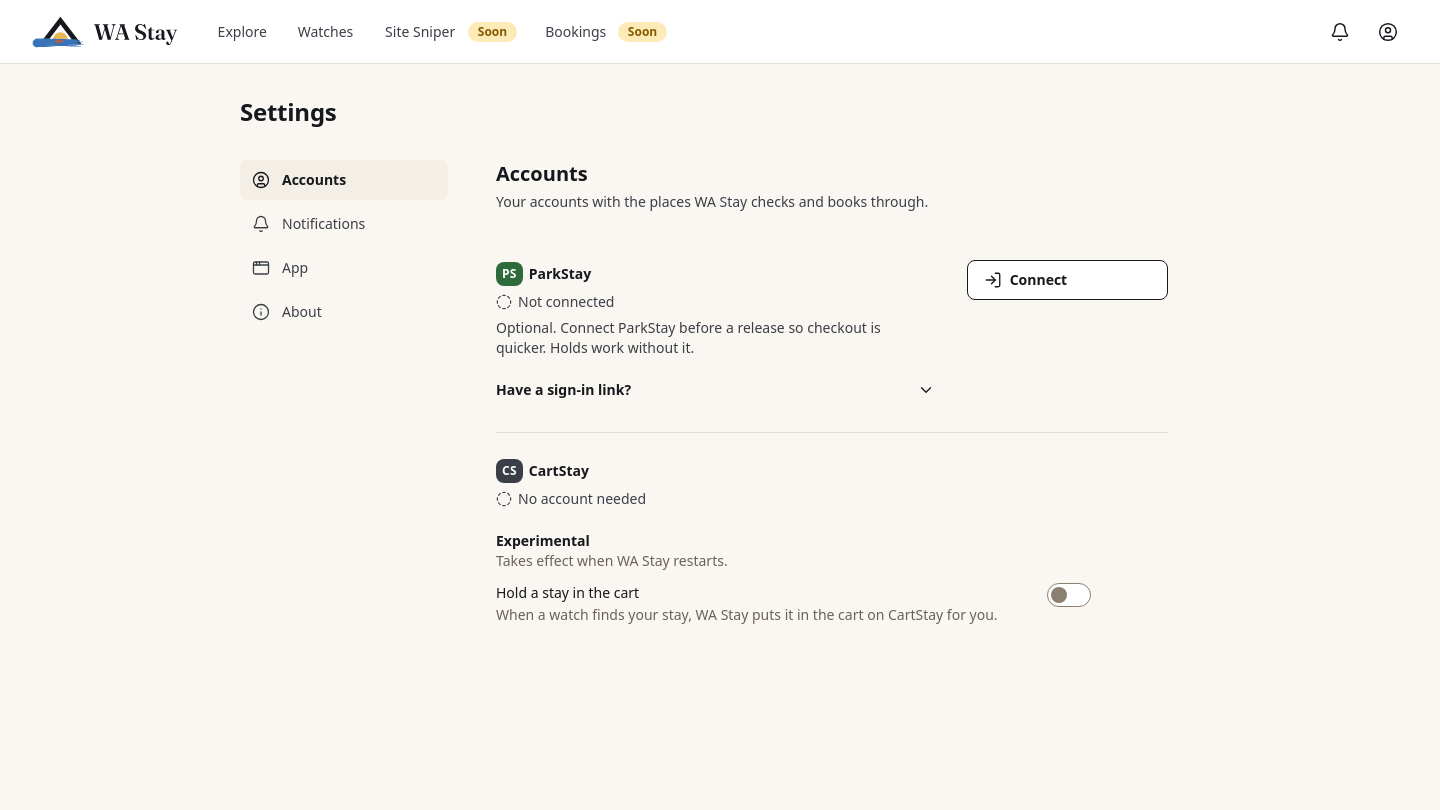
Scenario: Settings → Accounts: Experimental switches (R17) › a refused turn-on stays in the dialog with the reason
The image size is (1440, 810).
Click the switch labelled "Hold a stay in the cart".
click(1069, 595)  # box x1=1047 y1=583 x2=1091 y2=607
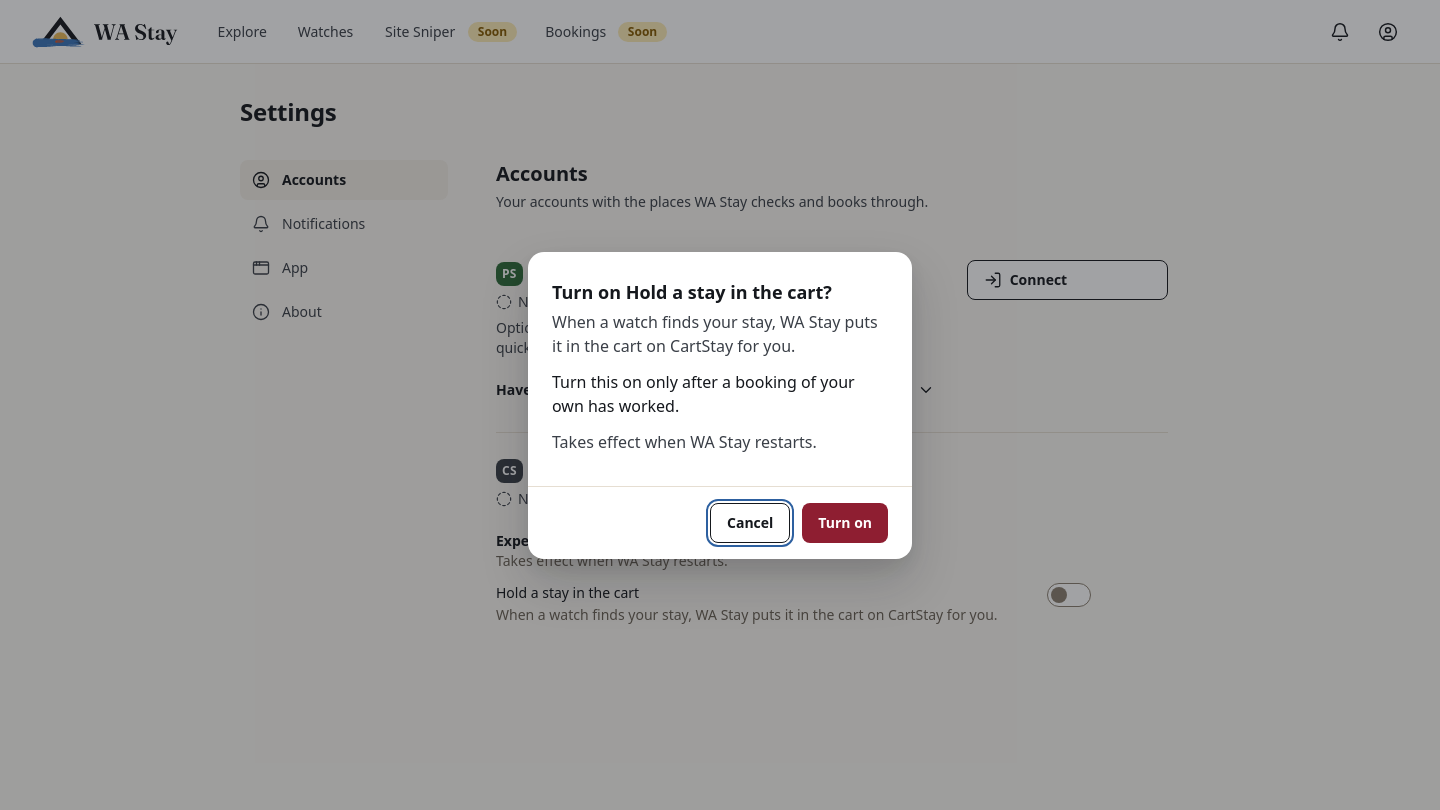
Click the button "Turn on".
click(845, 522)  # box x1=802 y1=502 x2=888 y2=542
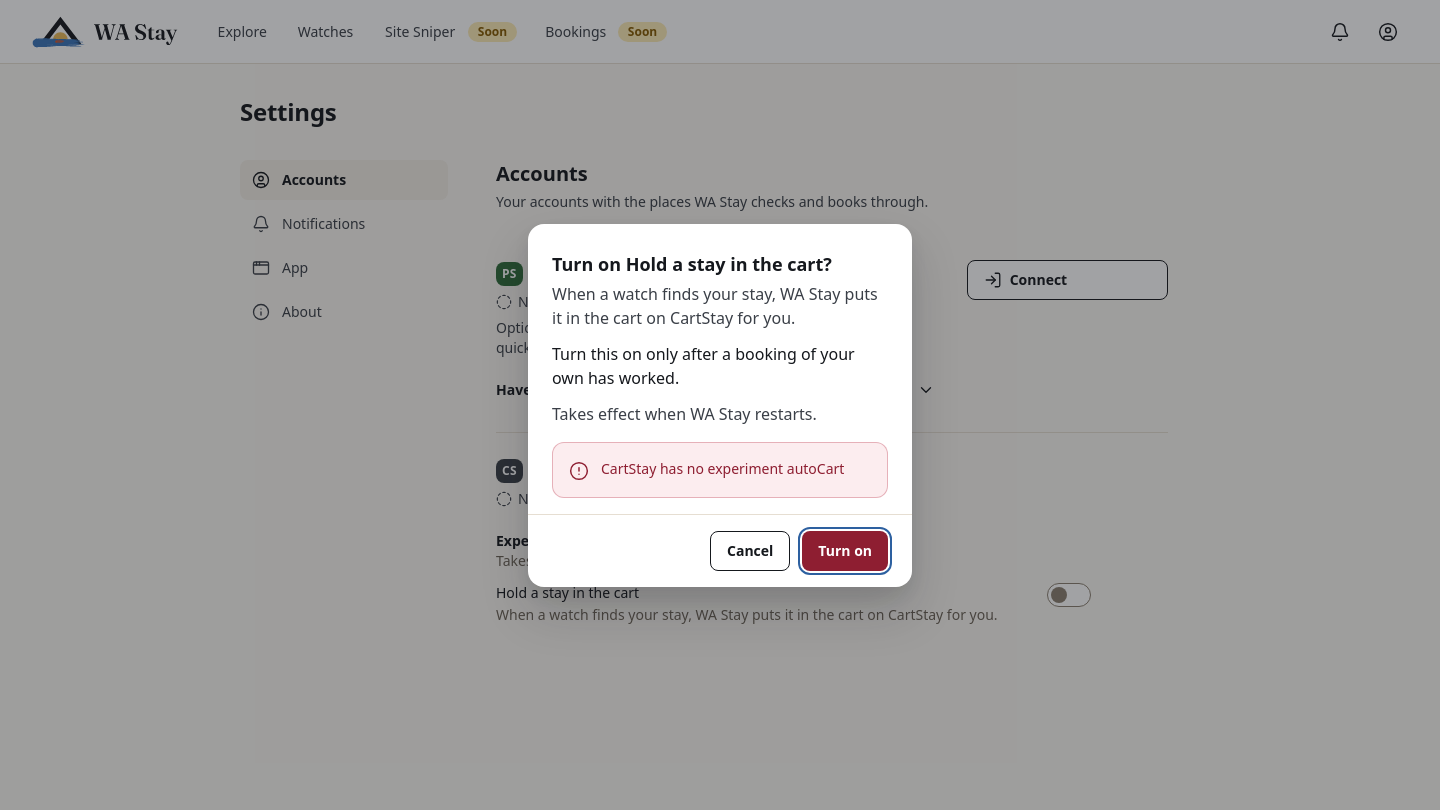
Expected: the switch labelled "Hold a stay in the cart" is not checked, x1=1047 y1=583 x2=1091 y2=607
Result: the message reads "CartStay has no experiment autoCart" at x1=601 y1=458 x2=844 y2=478
